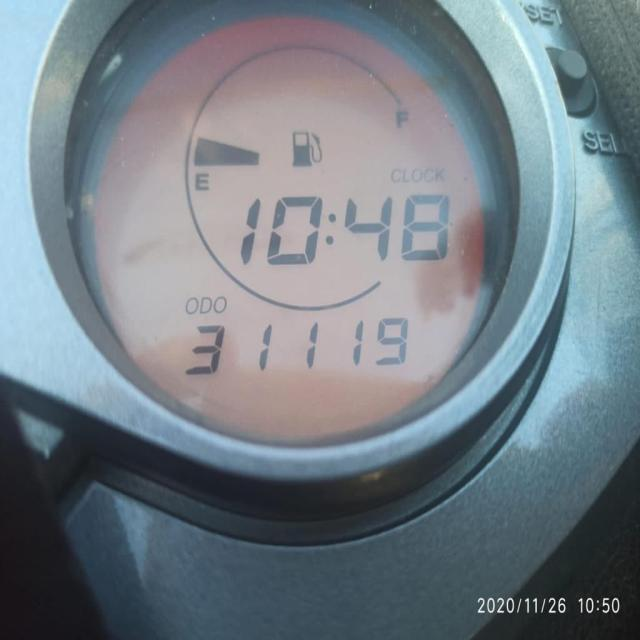odometer: (48, 12, 534, 462)
